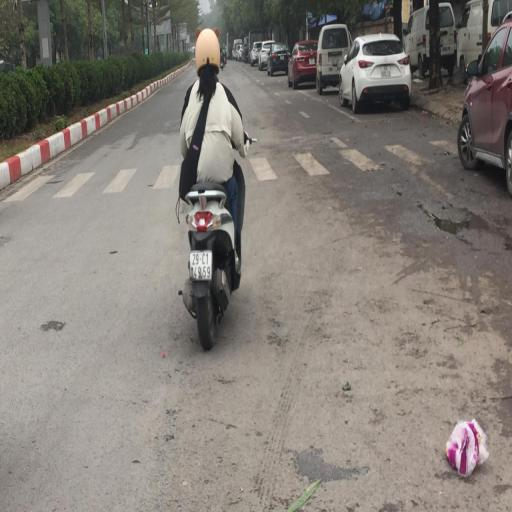bike: (178, 23, 252, 350)
numberplate: (189, 252, 212, 280), (381, 66, 390, 76), (309, 58, 315, 64)
with helmet: (195, 26, 221, 71)
